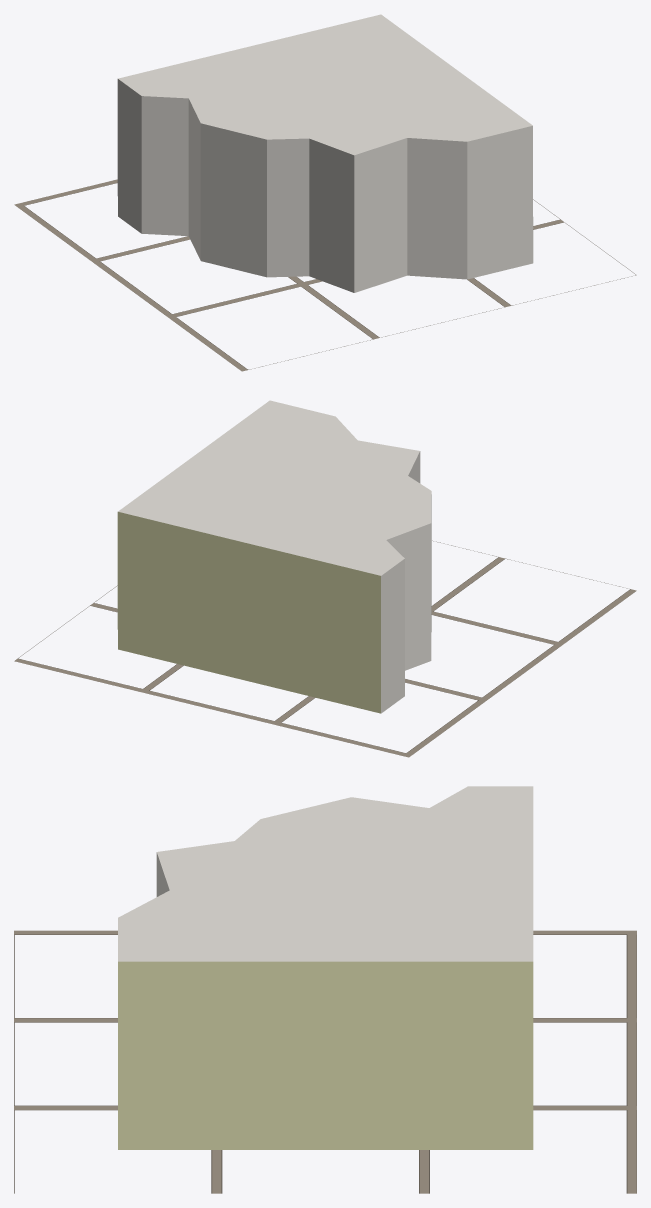
Rendered from Cracked_Curve_Outer_3x3_1_Mid.glb.
3 renders of one model, top to bottom at view 1: azimuth 30°, elevation 25°; view 2: azimuth 150°, elevation 25°; view 3: azimuth 270°, elevation 25°, orthographic. The views are drawn at different scales.
Parts seen in each view (by area): view 1: Cracked_Curve_Outer_3x3_1_Mid, Floor; view 2: Cracked_Curve_Outer_3x3_1_Mid, Floor; view 3: Cracked_Curve_Outer_3x3_1_Mid, Floor.
Part boxes in pixels (<box>): Cracked_Curve_Outer_3x3_1_Mid: <box>117,14,533,292</box>; Floor: <box>14,179,636,371</box>; Cracked_Curve_Outer_3x3_1_Mid: <box>117,400,431,713</box>; Floor: <box>14,540,636,757</box>; Cracked_Curve_Outer_3x3_1_Mid: <box>118,786,533,1149</box>; Floor: <box>14,930,636,1193</box>.
Bounding box in the file's own units: 300 × 100 × 300.
3 materials, 1 textured.
